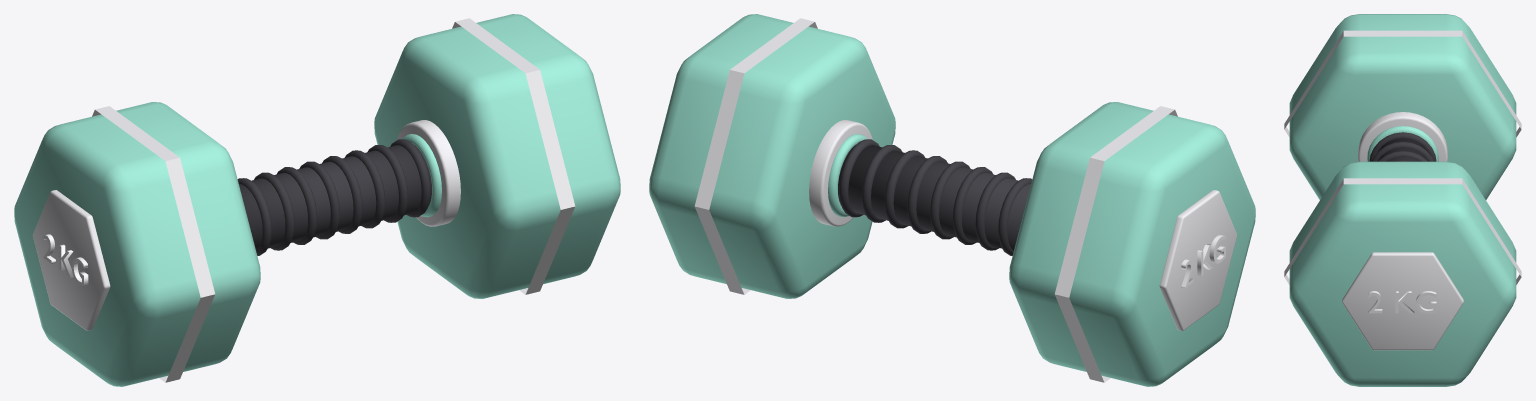
File: dm_tiny2kg.glb
3 renders of one model, left to right at view 1: azimuth 30°, elevation 25°; view 2: azimuth 150°, elevation 25°; view 3: azimuth 270°, elevation 25°, orthographic. The views are drawn at different scales.
Visible parts, largest first — view 1: Tiny2kg_HexHead.001, Tiny2kg_HexHead, Tiny2kg_Grip, Tiny2kg_EndPlate, Tiny2kg_Stripe.001, Tiny2kg_Stripe, Tiny2kg_InnerCollar.001, Tiny2kg_GripEnd.001, Tiny2kg_Label, Tiny2kg_GripRing.002, Tiny2kg_GripRing.004, Tiny2kg_GripRing.008 (+5 smaller); view 2: Tiny2kg_HexHead.001, Tiny2kg_HexHead, Tiny2kg_Grip, Tiny2kg_EndPlate, Tiny2kg_Stripe.001, Tiny2kg_Stripe, Tiny2kg_InnerCollar.001, Tiny2kg_GripEnd.001, Tiny2kg_Label, Tiny2kg_GripRing.002, Tiny2kg_GripRing.004, Tiny2kg_GripRing.008 (+5 smaller); view 3: Tiny2kg_HexHead.001, Tiny2kg_HexHead, Tiny2kg_EndPlate.001, Tiny2kg_Stripe, Tiny2kg_Stripe.001, Tiny2kg_InnerCollar, Tiny2kg_Label.001, Tiny2kg_GripEnd, Tiny2kg_GripRing, Tiny2kg_Grip, Tiny2kg_GripRing.001, Tiny2kg_GripRing.002.
Part boxes in pixels (bbox=[...]): Tiny2kg_HexHead.001: bbox=[374, 14, 620, 298]; Tiny2kg_HexHead: bbox=[14, 102, 260, 386]; Tiny2kg_Grip: bbox=[239, 144, 431, 250]; Tiny2kg_EndPlate: bbox=[32, 190, 110, 330]; Tiny2kg_Stripe.001: bbox=[452, 18, 575, 294]; Tiny2kg_Stripe: bbox=[92, 106, 215, 382]; Tiny2kg_InnerCollar.001: bbox=[397, 120, 460, 226]; Tiny2kg_GripEnd.001: bbox=[402, 134, 441, 217]; Tiny2kg_Label: bbox=[43, 234, 88, 285]; Tiny2kg_GripRing.002: bbox=[254, 172, 294, 250]; Tiny2kg_GripRing.004: bbox=[299, 161, 339, 239]; Tiny2kg_GripRing.008: bbox=[390, 139, 430, 217]; Tiny2kg_HexHead.001: bbox=[649, 14, 895, 298]; Tiny2kg_HexHead: bbox=[1009, 102, 1255, 386]; Tiny2kg_Grip: bbox=[838, 144, 1030, 250]; Tiny2kg_EndPlate: bbox=[1159, 190, 1237, 330]; Tiny2kg_Stripe.001: bbox=[694, 18, 817, 294]; Tiny2kg_Stripe: bbox=[1054, 106, 1177, 382]; Tiny2kg_InnerCollar.001: bbox=[809, 120, 872, 226]; Tiny2kg_GripEnd.001: bbox=[828, 134, 867, 217]; Tiny2kg_Label: bbox=[1181, 235, 1225, 287]; Tiny2kg_GripRing.002: bbox=[975, 172, 1015, 250]; Tiny2kg_GripRing.004: bbox=[930, 161, 970, 239]; Tiny2kg_GripRing.008: bbox=[839, 139, 879, 217]; Tiny2kg_HexHead.001: bbox=[1289, 161, 1516, 386]; Tiny2kg_HexHead: bbox=[1289, 14, 1516, 199]; Tiny2kg_EndPlate.001: bbox=[1342, 252, 1463, 350]; Tiny2kg_Stripe: bbox=[1284, 30, 1521, 137]; Tiny2kg_Stripe.001: bbox=[1284, 178, 1521, 284]; Tiny2kg_InnerCollar: bbox=[1358, 112, 1447, 161]; Tiny2kg_Label.001: bbox=[1368, 291, 1436, 313]; Tiny2kg_GripEnd: bbox=[1367, 126, 1438, 161]; Tiny2kg_GripRing: bbox=[1369, 132, 1436, 161]; Tiny2kg_Grip: bbox=[1376, 138, 1429, 161]; Tiny2kg_GripRing.001: bbox=[1372, 141, 1433, 161]; Tiny2kg_GripRing.002: bbox=[1378, 151, 1427, 161].
Bounding box in the file's own units: 1.15 × 0.4787 × 0.5527.
